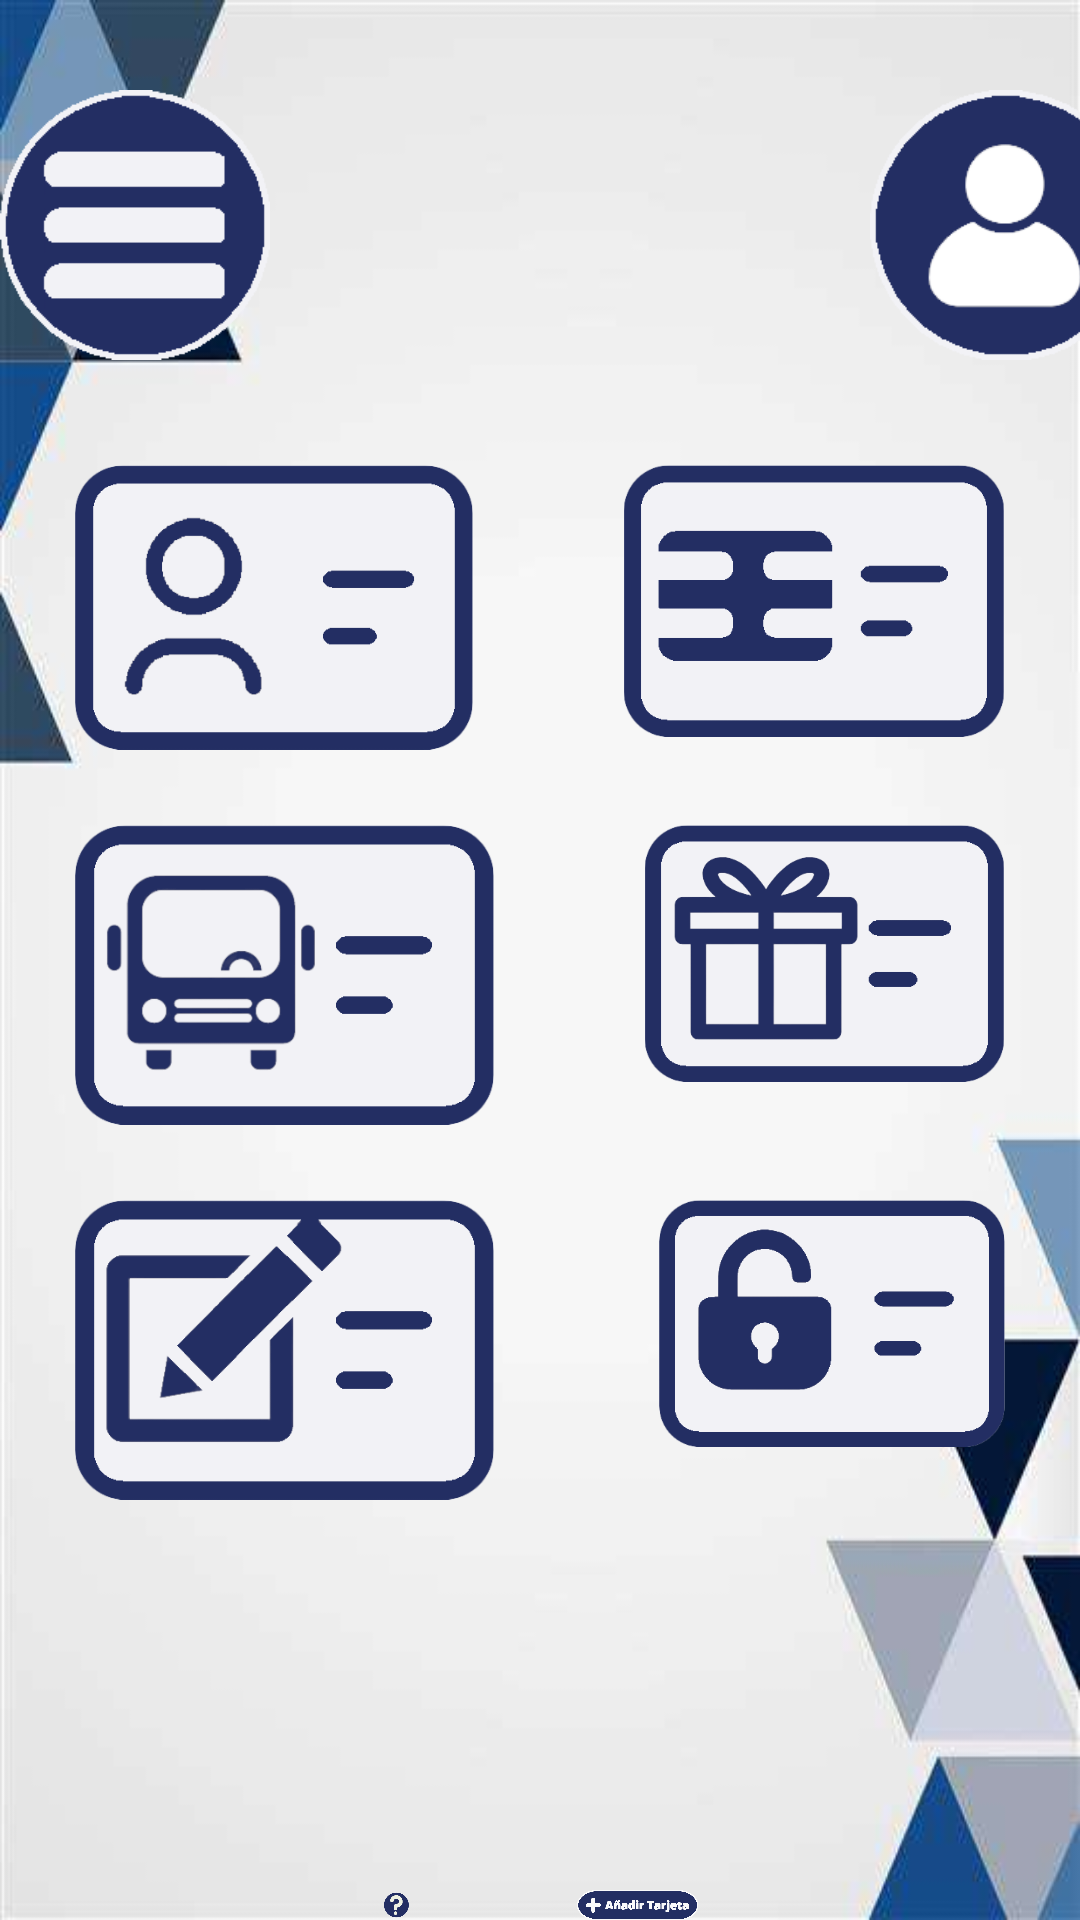

Named icons in this screenshot (1080w x 1920h) and their centers, [x,y]:
help: [396,1905]
picaccesscard: [832,1323]
picgiftcard: [824,953]
